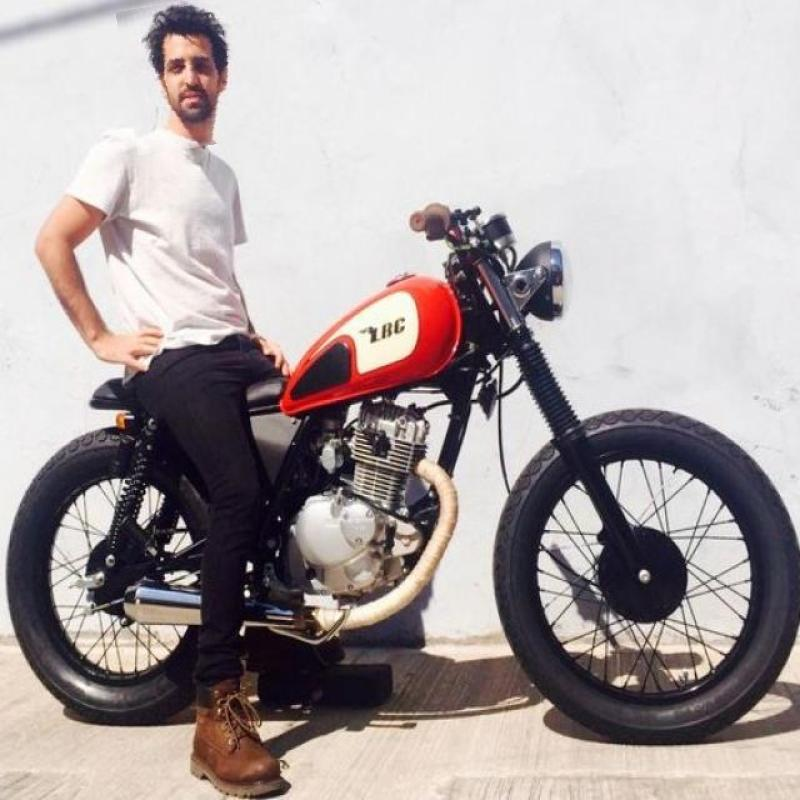nohelmet: (120, 0, 270, 150)
